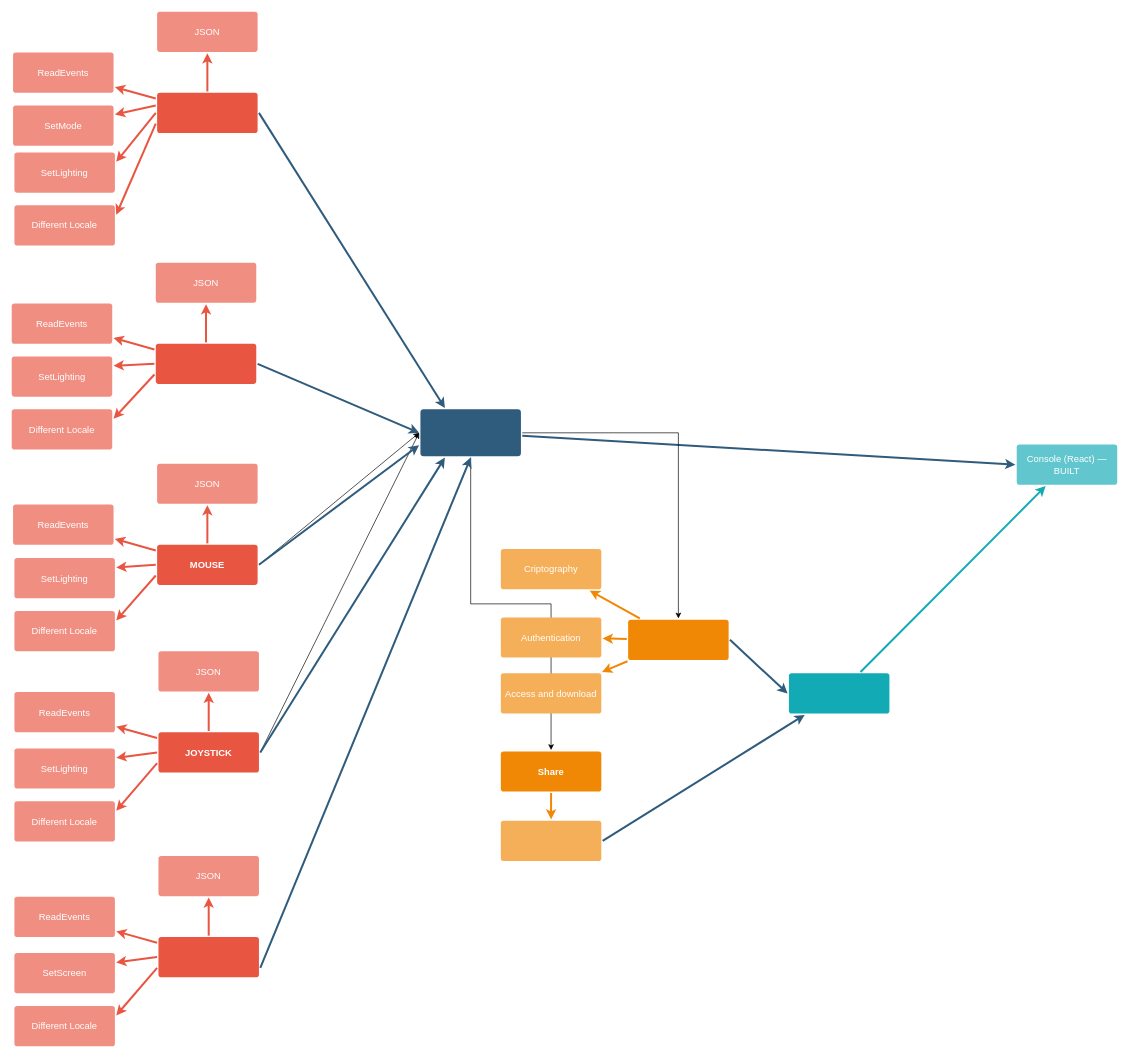
Image size: 1128x1057. Some labels were removed from this diagram. The shapes that lost their labels are listed below. From the top down, each one's centre as x and y in pixels, then its label:
(207,112): MIDI
(205,363): KEYBOARD
(470,432): Dispatcher
(678,639): Vault
(839,693): BackEnd (C++ / harpia) — BUILT
(550,840): FileSystem
(208,957): Screen
